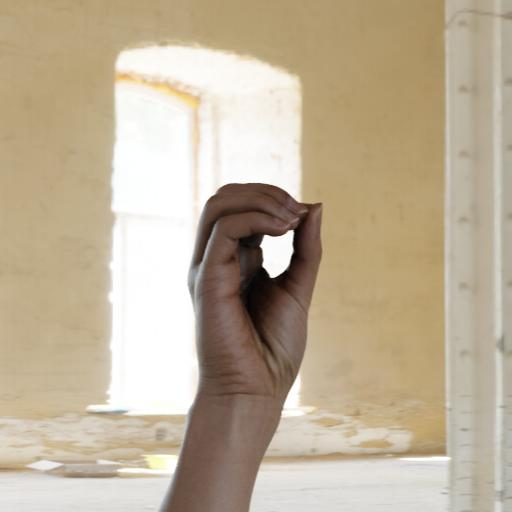O: (183, 179, 329, 395)
